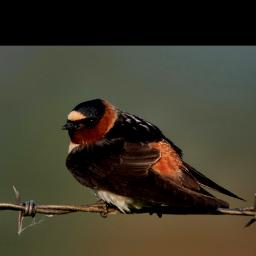Swallow: (60, 97, 249, 218)
